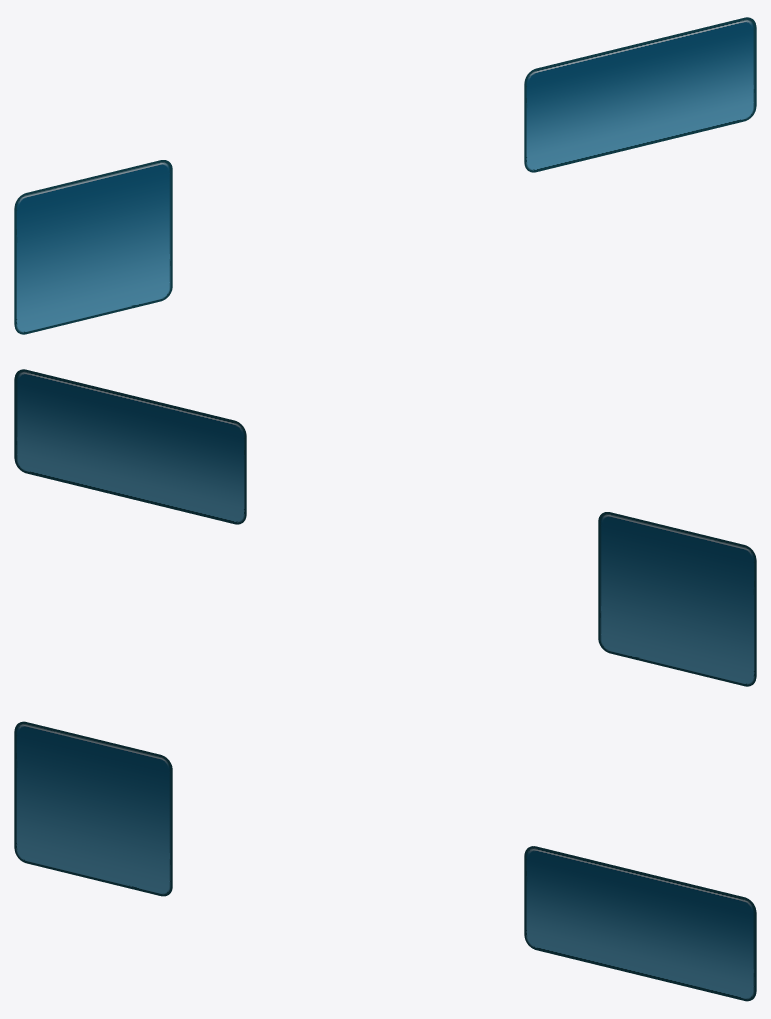
The model's file is smallwindow 1.fbx.
The picture shows the model from 3 angles, top to bottom: view 1: azimuth 30°, elevation 25°; view 2: azimuth 150°, elevation 25°; view 3: azimuth 330°, elevation 25°; orthographic projection.
Visible parts, largest first — view 1: smallwindow1, smallwindow2; view 2: smallwindow1, smallwindow2; view 3: smallwindow1, smallwindow2.
Part boxes in pixels (box(x1,y1,x2,y2)): smallwindow1: box(524, 17, 756, 172); smallwindow2: box(14, 160, 172, 334); smallwindow1: box(14, 369, 246, 524); smallwindow2: box(598, 512, 756, 686); smallwindow1: box(524, 846, 756, 1001); smallwindow2: box(14, 721, 172, 896).
Bounding box in the file's own units: 1611 × 295 × 4.27e-14.
1 material, 1 textured.
